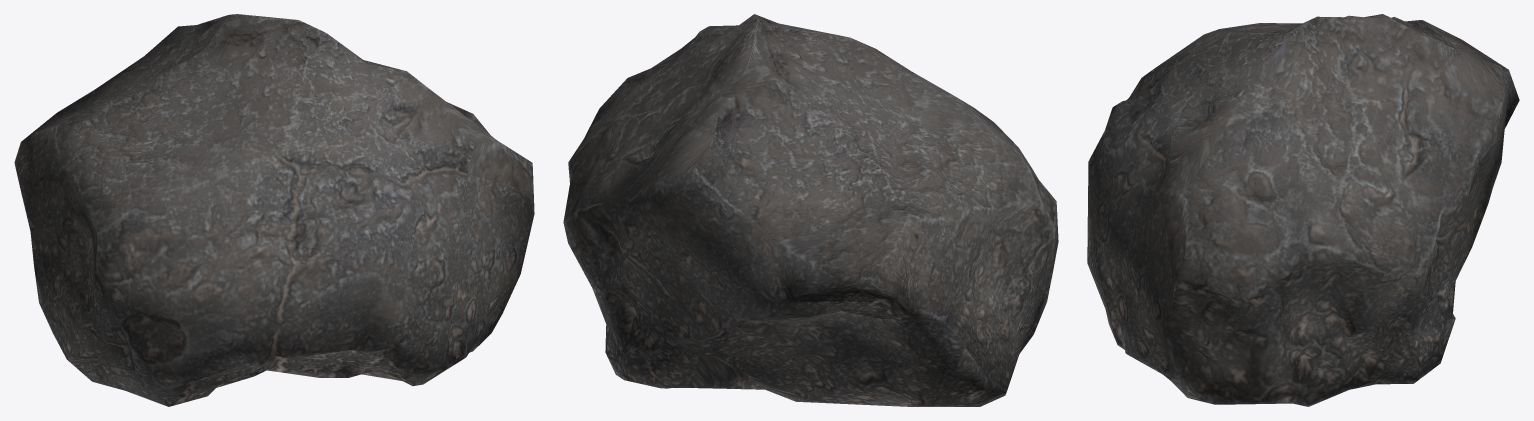
The model's file is Rock_medium_01_GREY.fbx.
The picture shows the model from 3 angles, left to right: view 1: azimuth 30°, elevation 25°; view 2: azimuth 150°, elevation 25°; view 3: azimuth 270°, elevation 25°; orthographic projection. The views are drawn at different scales.
Parts seen in each view (by area): view 1: Rock_medium_01_GREY; view 2: Rock_medium_01_GREY; view 3: Rock_medium_01_GREY.
Boxes of the visible parts, <box> form: Rock_medium_01_GREY: <box>14,14,534,406</box>; Rock_medium_01_GREY: <box>563,14,1058,406</box>; Rock_medium_01_GREY: <box>1087,14,1519,406</box>.
Bounding box in the file's own units: 0.4943 × 0.3653 × 0.4292.
1 material, 1 textured.
